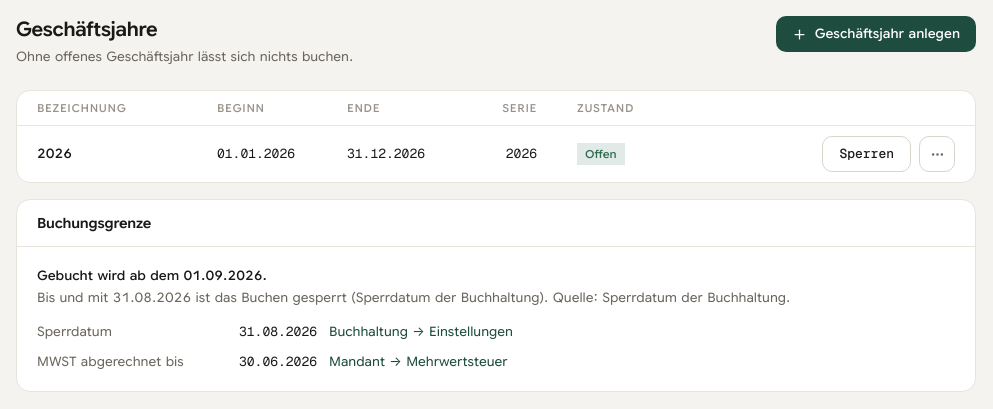
FiscalYearPage › fiscalYearPageOffersOnlyEditOnAnUndeletableYearTest
The image size is (993, 409).
Click the button named "Weitere Aktionen für 2026": {"x": 937, "y": 154} [919, 136, 955, 172]
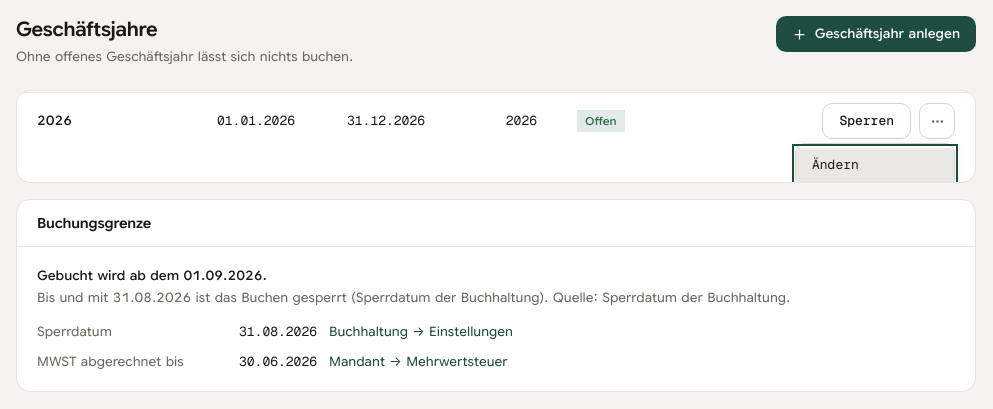
Result: the text "Ändern" is shown at [796, 148, 954, 182]
